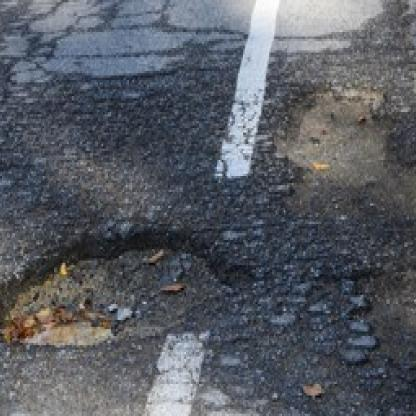pothole: (0, 226, 225, 352), (275, 87, 393, 222), (346, 263, 416, 393)
